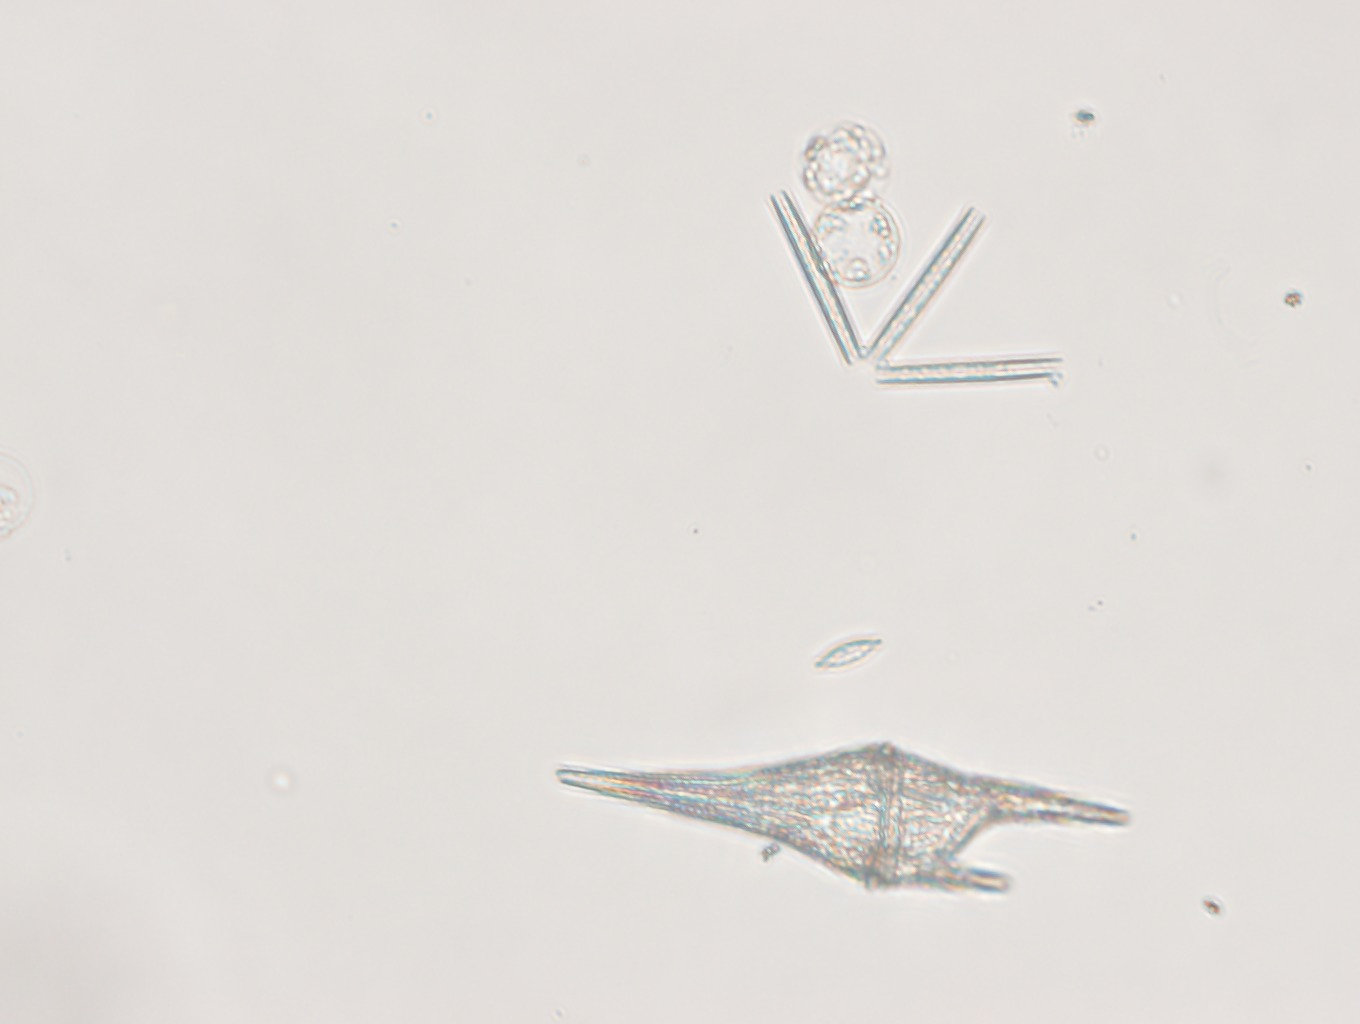ceratium furca: (544, 730, 1133, 914)
thalassionema nitzschioides: (751, 177, 1079, 399)
